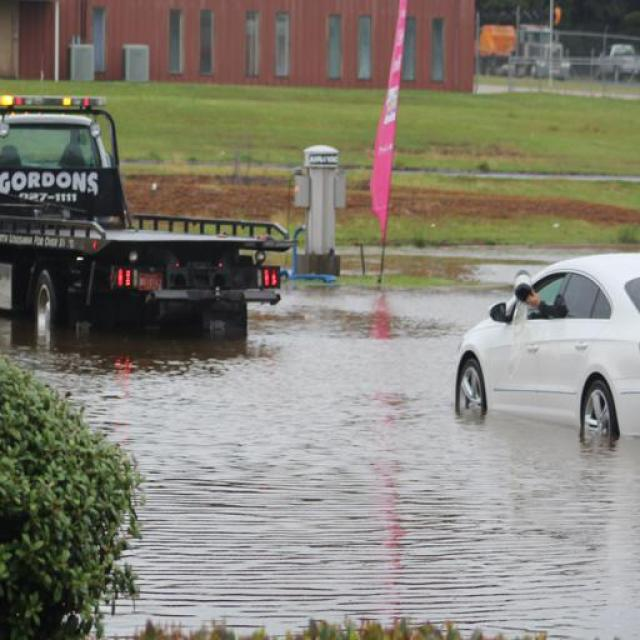puddle: (73, 350, 450, 638), (296, 446, 640, 640), (294, 281, 461, 492)
